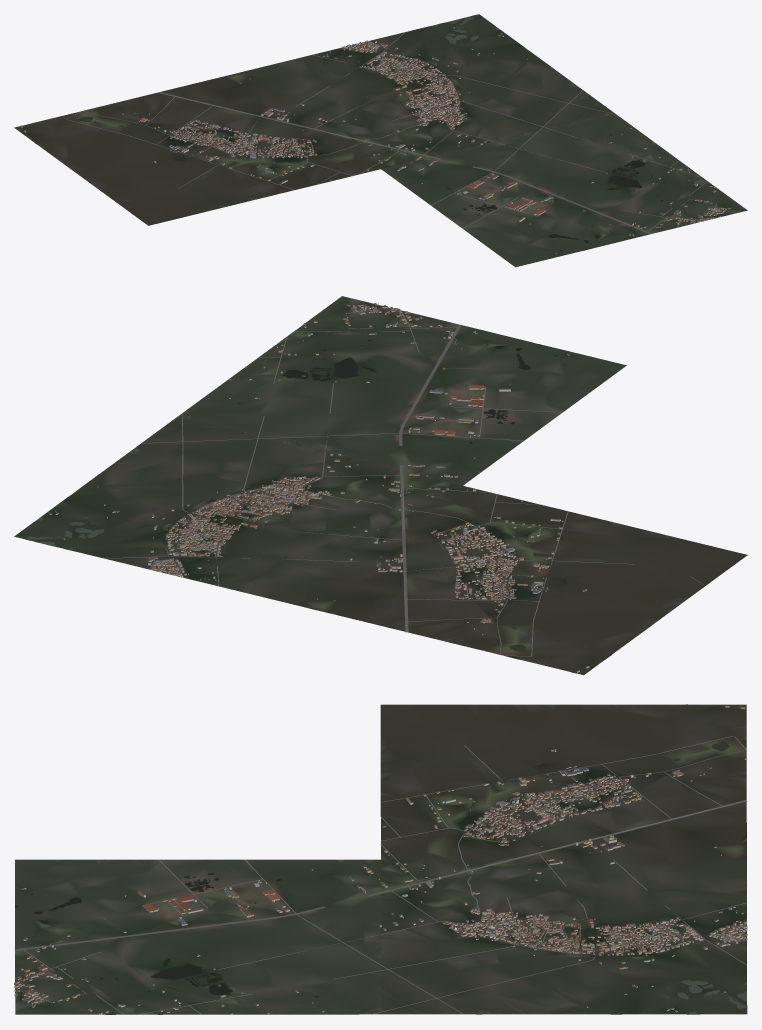
3 renders of one model, top to bottom at view 1: azimuth 30°, elevation 25°; view 2: azimuth 150°, elevation 25°; view 3: azimuth 270°, elevation 25°, orthographic. The views are drawn at different scales.
Parts seen in each view (by area): view 1: ground, buildings, roads, water; view 2: ground, buildings, roads, water; view 3: ground, buildings, roads, water.
Boxes of the visible parts, box(x1,y1,x2,y2) form: ground: box(14, 14, 747, 267); buildings: box(20, 27, 730, 254); roads: box(66, 32, 720, 234); water: box(22, 16, 712, 250); ground: box(14, 296, 747, 675); buildings: box(49, 303, 589, 672); roads: box(104, 305, 703, 656); water: box(26, 327, 625, 672); ground: box(15, 704, 747, 1014); buildings: box(14, 705, 747, 1014); roads: box(15, 736, 747, 1014); water: box(15, 704, 746, 1014).
Size of the model in its own units: 2812 by 19.05 by 2811.
